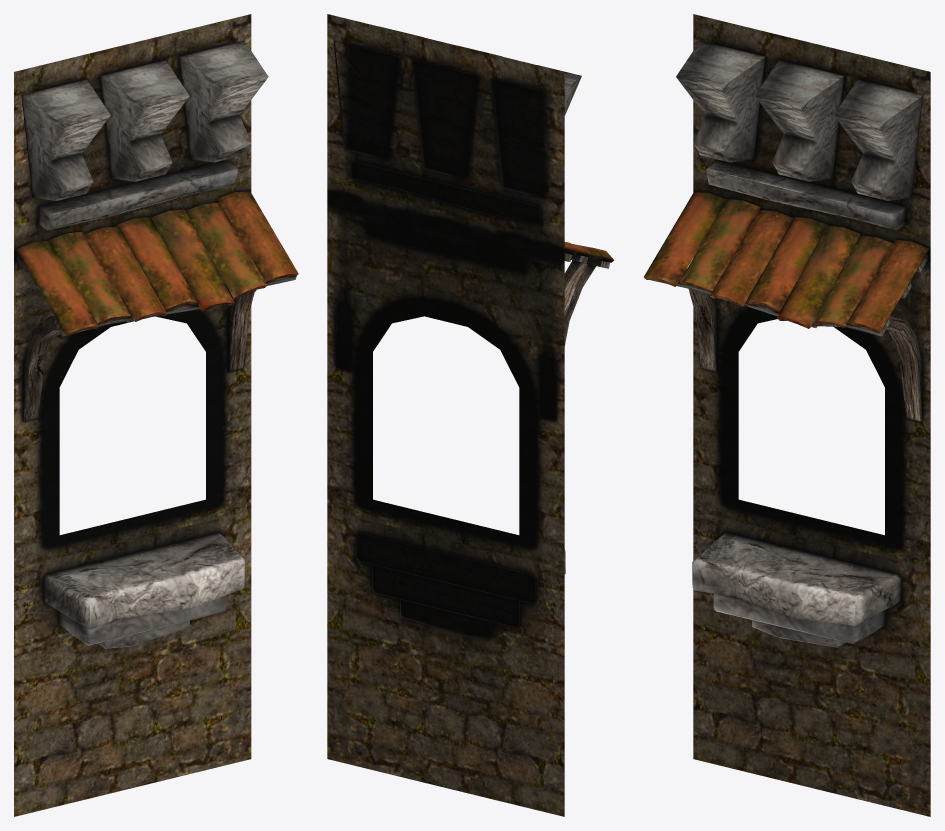
Rendered from outside_wall_window_broken.dae.
3 renders of one model, left to right at view 1: azimuth 30°, elevation 25°; view 2: azimuth 150°, elevation 25°; view 3: azimuth 330°, elevation 25°, orthographic.
Parts seen in each view (by area): view 1: polySurface659; view 2: polySurface659; view 3: polySurface659.
Part boxes in pixels (bbox=[...]): polySurface659: bbox=[14, 14, 298, 816]; polySurface659: bbox=[327, 14, 614, 816]; polySurface659: bbox=[643, 14, 930, 816].
Size of the model in its own units: 4 by 12 by 1.62.
